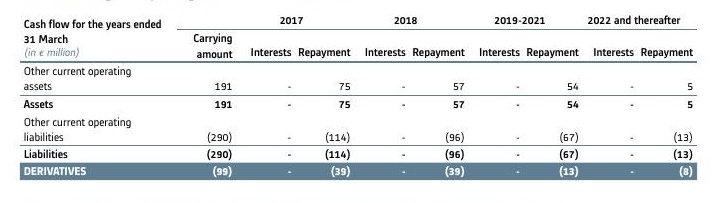table: (0, 0, 720, 203)
